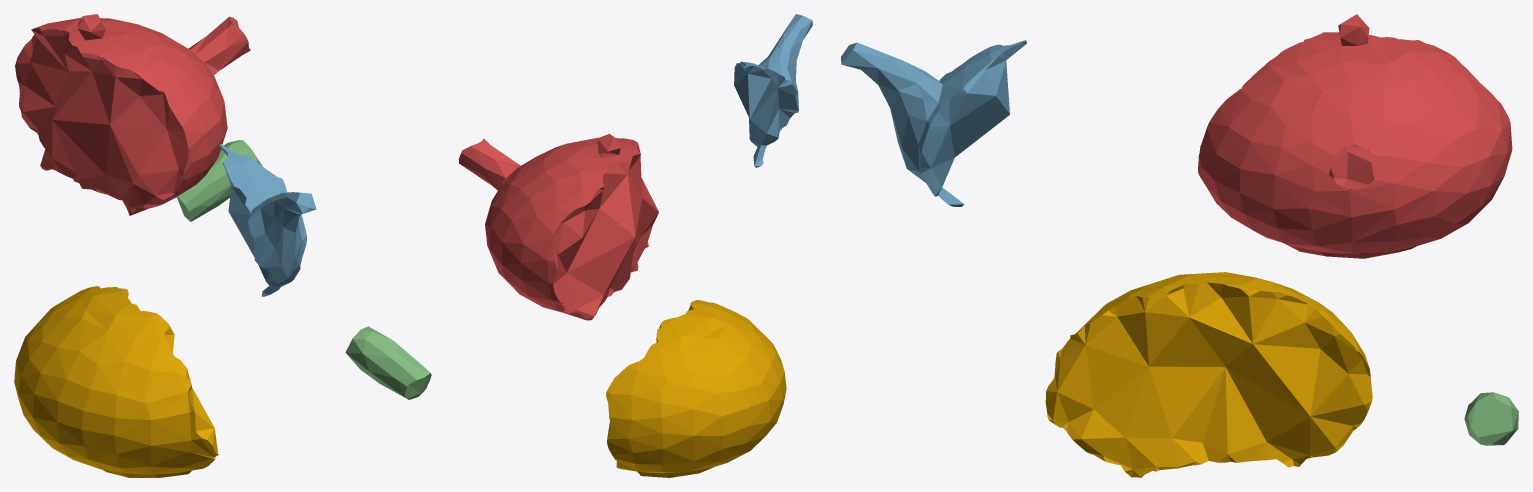
File: mode_3_4pcs_transformed.glb
The picture shows the model from 3 angles, left to right: view 1: azimuth 30°, elevation 25°; view 2: azimuth 150°, elevation 25°; view 3: azimuth 270°, elevation 25°; orthographic projection. The views are drawn at different scales.
Visible parts, largest first — view 1: piece_1.obj, piece_0.obj, piece_2.obj, piece_3.obj; view 2: piece_1.obj, piece_0.obj, piece_2.obj, piece_3.obj; view 3: piece_1.obj, piece_0.obj, piece_2.obj, piece_3.obj.
Part boxes in pixels (x1,y1,x2,y2): piece_1.obj: [15, 14, 250, 215]; piece_0.obj: [14, 286, 218, 477]; piece_2.obj: [219, 144, 316, 296]; piece_3.obj: [176, 140, 262, 221]; piece_1.obj: [458, 134, 658, 320]; piece_0.obj: [606, 300, 786, 477]; piece_2.obj: [734, 14, 812, 167]; piece_3.obj: [345, 326, 431, 399]; piece_1.obj: [1198, 14, 1512, 258]; piece_0.obj: [1045, 272, 1372, 477]; piece_2.obj: [841, 40, 1026, 206]; piece_3.obj: [1464, 392, 1518, 445].
Size of the model in its own units: 1 by 1.09 by 1.46.
